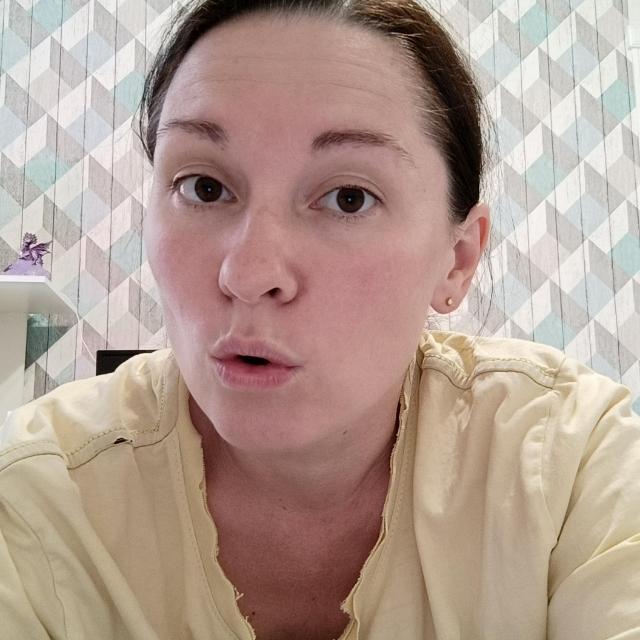Surprised: (90, 72, 579, 466)
